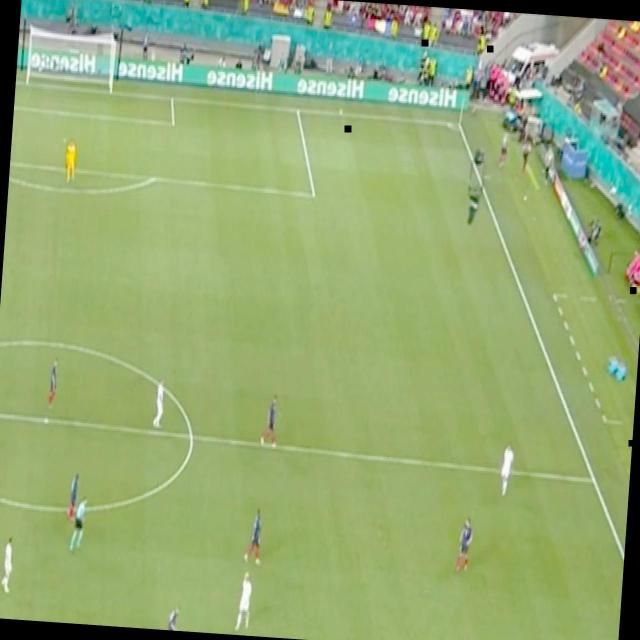ball: (522, 192, 529, 202)
player-white: (242, 506, 266, 568), (258, 394, 282, 452), (233, 569, 254, 635), (454, 515, 476, 577), (68, 494, 90, 556), (498, 441, 516, 498), (0, 534, 16, 596), (151, 376, 167, 431), (46, 358, 62, 410), (63, 138, 80, 186), (66, 470, 80, 526), (159, 601, 183, 631)
